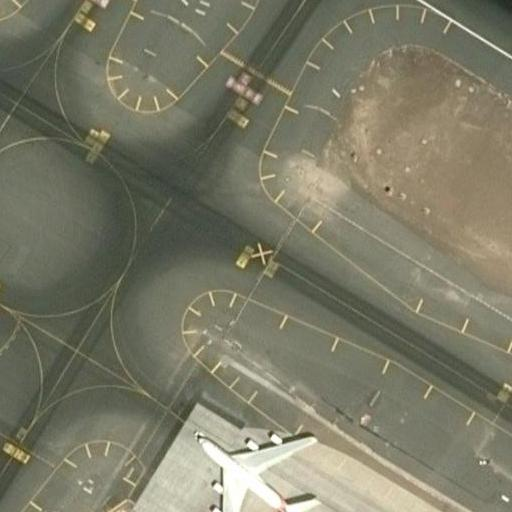Aircraft: (193, 411, 321, 512)
